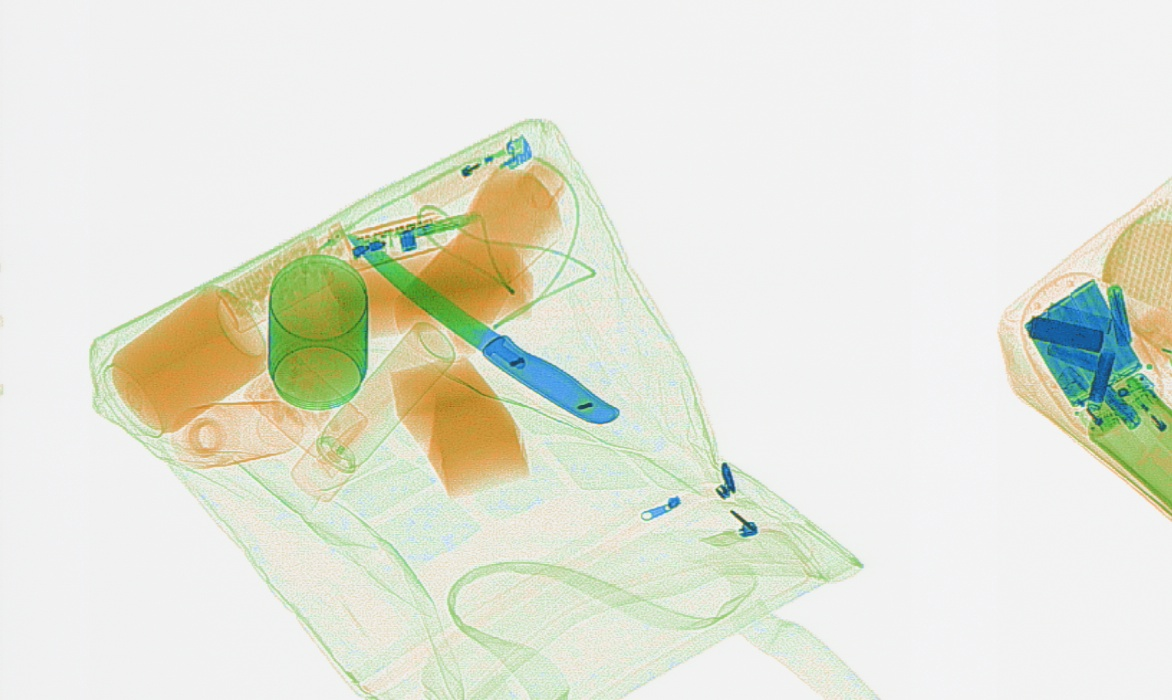knife: (347, 234, 619, 425)
lighter: (409, 133, 534, 214)
powerbank: (1020, 272, 1167, 438)
pressure: (288, 322, 457, 501)
